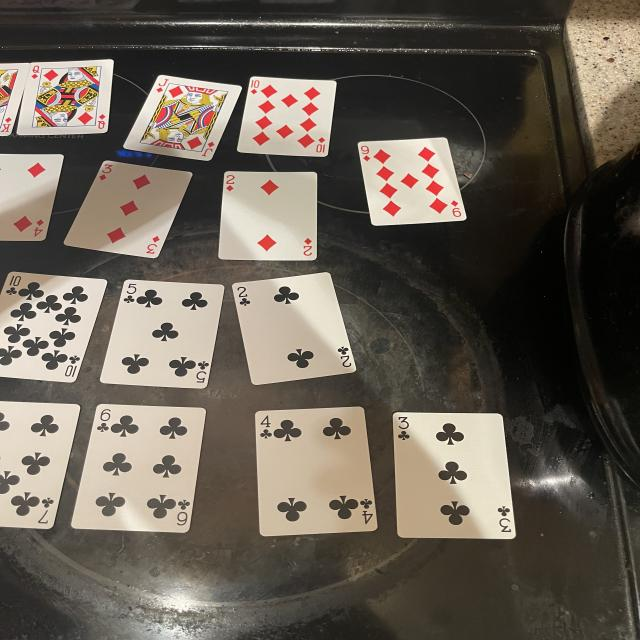10 of clubs: (0, 272, 107, 382)
10 of diamonds: (237, 76, 337, 156)
2 of clubs: (232, 272, 357, 385)
2 of diamonds: (218, 171, 317, 260)
3 of clubs: (393, 412, 515, 539)
3 of diamonds: (65, 161, 192, 258)
4 of clubs: (255, 406, 377, 536)
4 of diamonds: (0, 154, 63, 241)
5 of clubs: (100, 280, 223, 389)
6 of clubs: (72, 404, 205, 532)
7 of clubs: (0, 401, 80, 529)
9 of diamonds: (358, 138, 467, 225)
Jack of diamonds: (123, 75, 242, 161)
King of diamonds: (0, 64, 30, 136)
Queen of diamonds: (17, 59, 113, 135)
